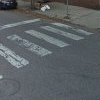crosswalk: (0, 21, 94, 69)
